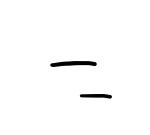eqv: (50, 61, 113, 99)
